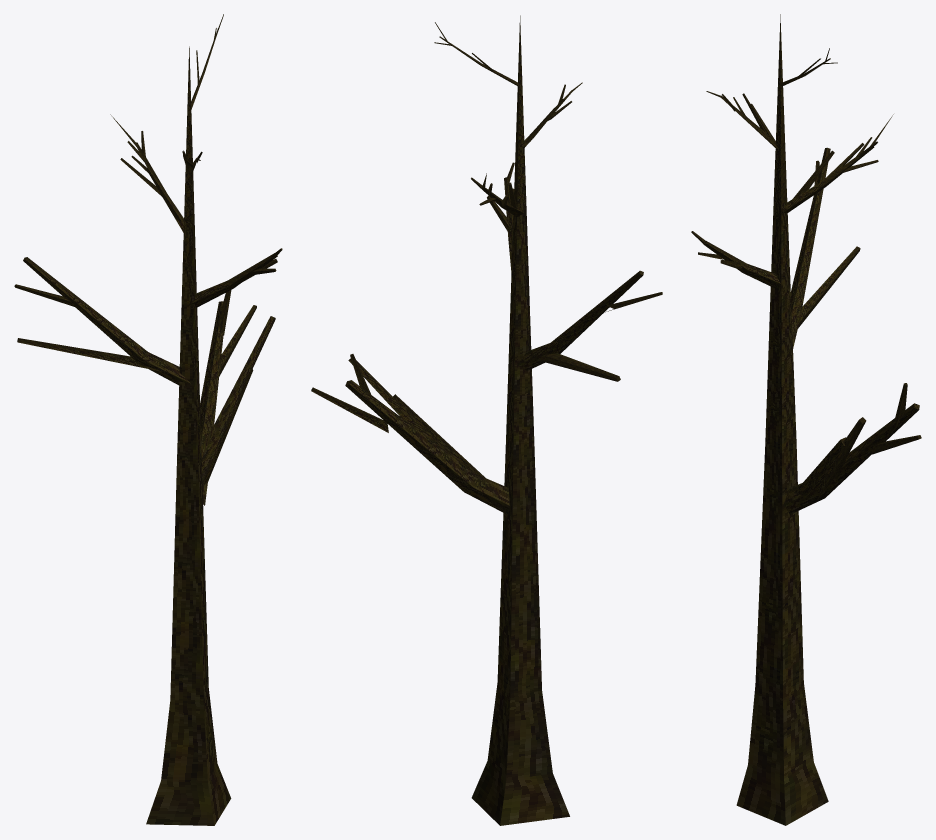
The picture shows the model from 3 angles, left to right: view 1: azimuth 30°, elevation 25°; view 2: azimuth 150°, elevation 25°; view 3: azimuth 270°, elevation 25°; orthographic projection. The views are drawn at different scales.
Visible parts, largest first — view 1: WoodsTree; view 2: WoodsTree; view 3: WoodsTree.
Boxes of the visible parts, bbox=[...] form: WoodsTree: bbox=[14, 14, 282, 825]; WoodsTree: bbox=[311, 15, 662, 825]; WoodsTree: bbox=[691, 14, 921, 825].
Size of the model in its own units: 7.81 by 19.71 by 5.22.
Materials: 1 (1 with a texture image).
